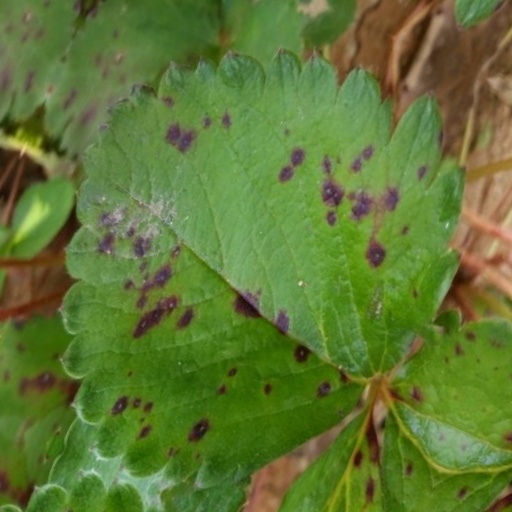Leaf Spot: (56, 0, 458, 479), (368, 274, 511, 511), (0, 0, 83, 296), (0, 0, 139, 176), (356, 0, 467, 124), (295, 427, 397, 511)
